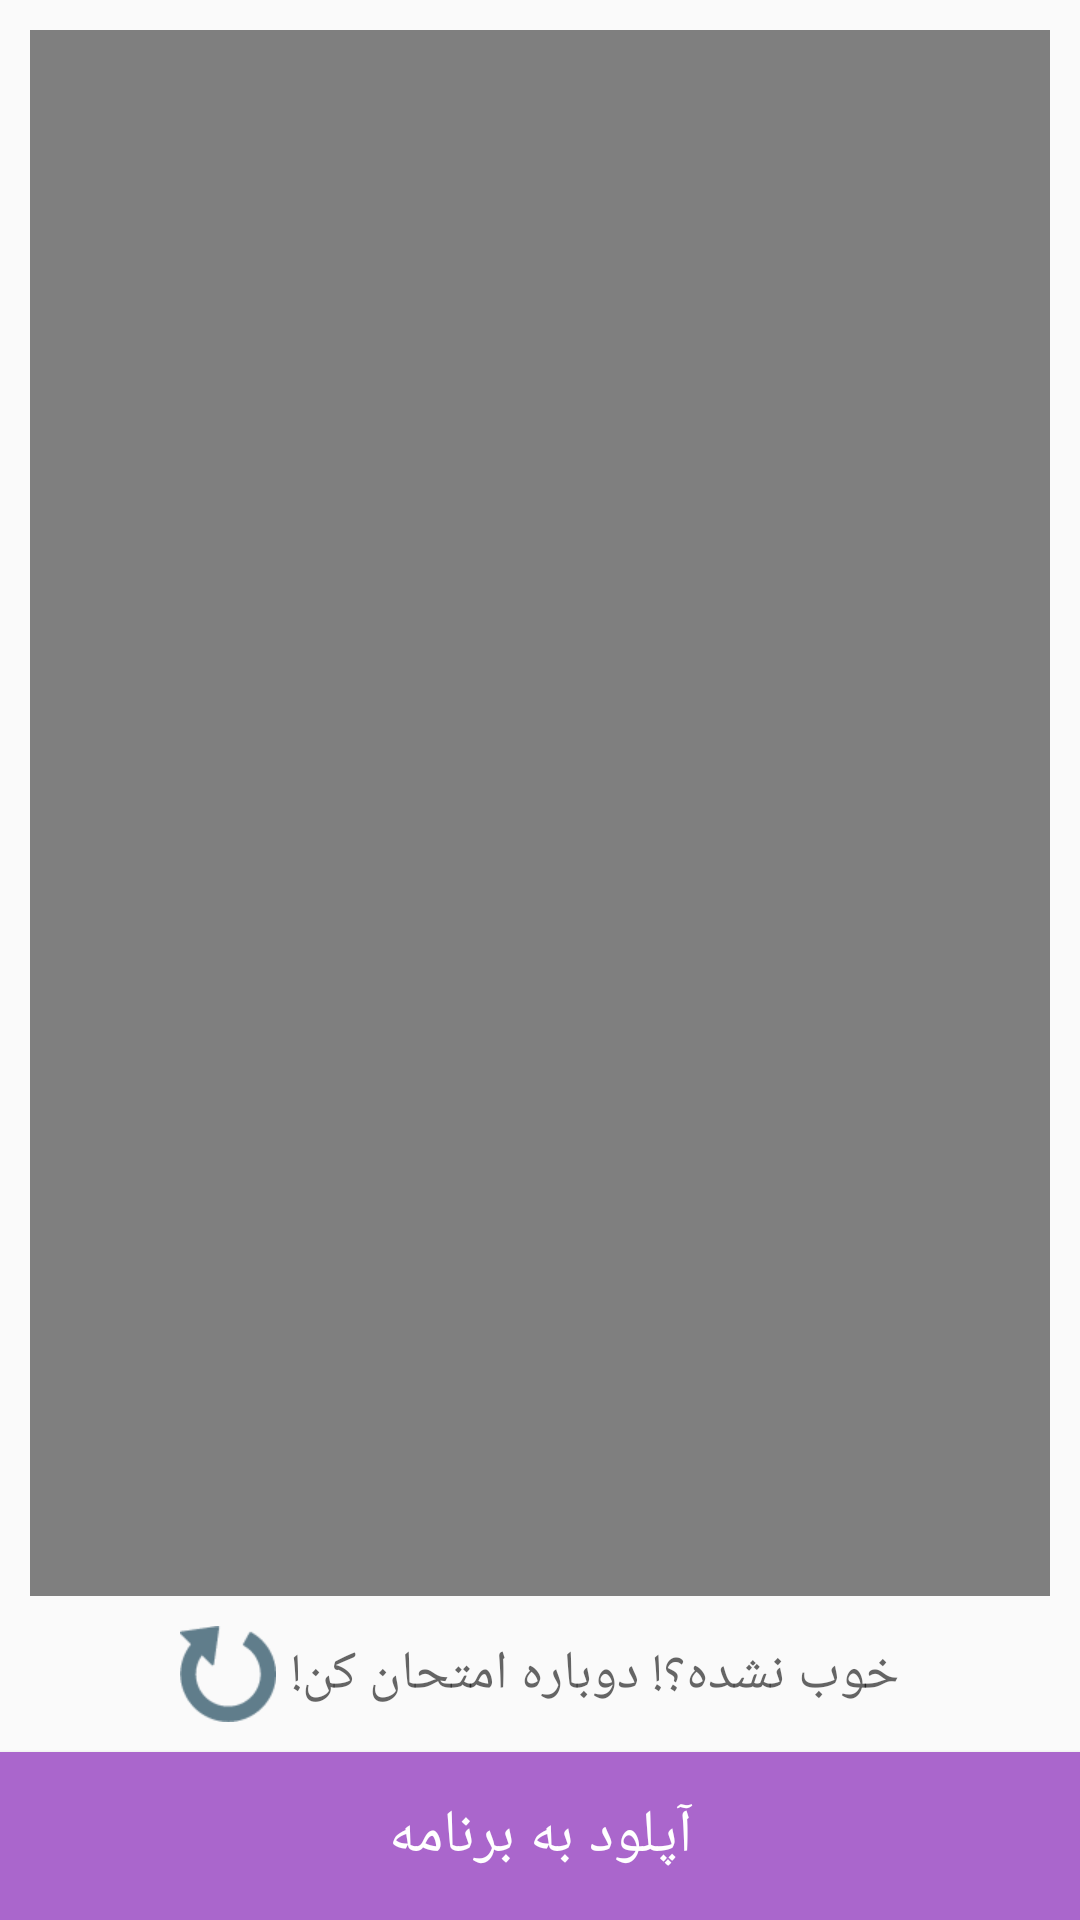

Screen size 1080w x 1920h. Icon name, then its box in pixels as [x1,y1,x2,y2]:
reload: [180,1626,276,1722]
